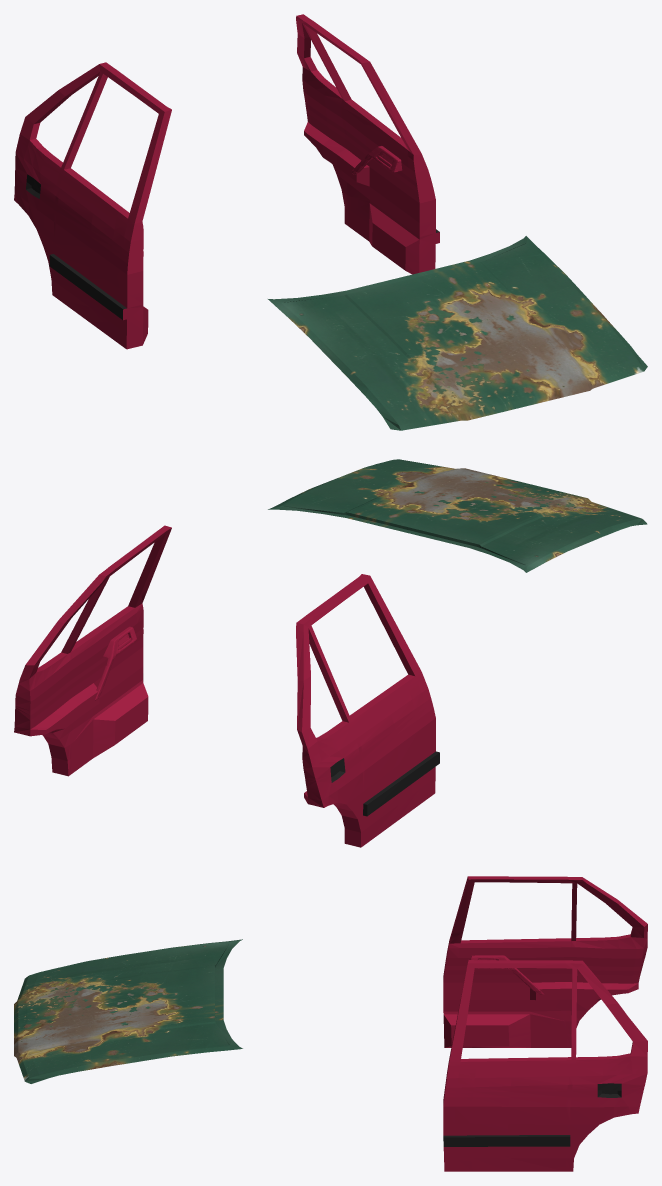
The picture shows the model from 3 angles, top to bottom: view 1: azimuth 30°, elevation 25°; view 2: azimuth 150°, elevation 25°; view 3: azimuth 270°, elevation 25°; orthographic projection. The views are drawn at different scales.
Visible parts, largest first — view 1: dvere_kapota_Object_20.001; view 2: dvere_kapota_Object_20.001; view 3: dvere_kapota_Object_20.001.
Part boxes in pixels (box(x1,y1,x2,y2)): dvere_kapota_Object_20.001: box(14, 14, 647, 430); dvere_kapota_Object_20.001: box(14, 459, 647, 847); dvere_kapota_Object_20.001: box(14, 876, 647, 1171).
Size of the model in its own units: 1.54 by 0.9974 by 3.07.
1 material, 1 textured.
